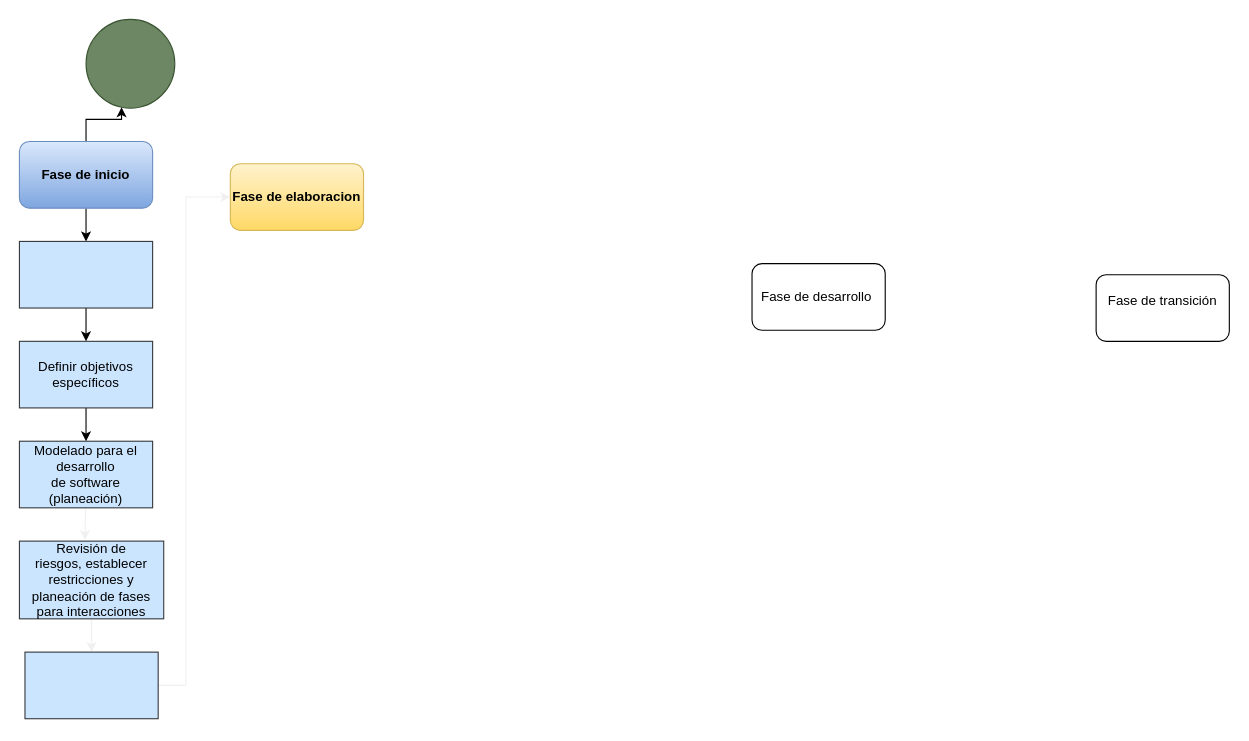
This 1249x741 diagram has some shape labels left out. The shapes that lost their labels are listed below. From the top down, each one's centre as x and y in pixels, then its label:
At (x=130, y=63): "Inicio".
At (x=85, y=274): "Definir Objetivos general".
At (x=91, y=685): "Formalizar proyecto, alta de acta constitutiva".
